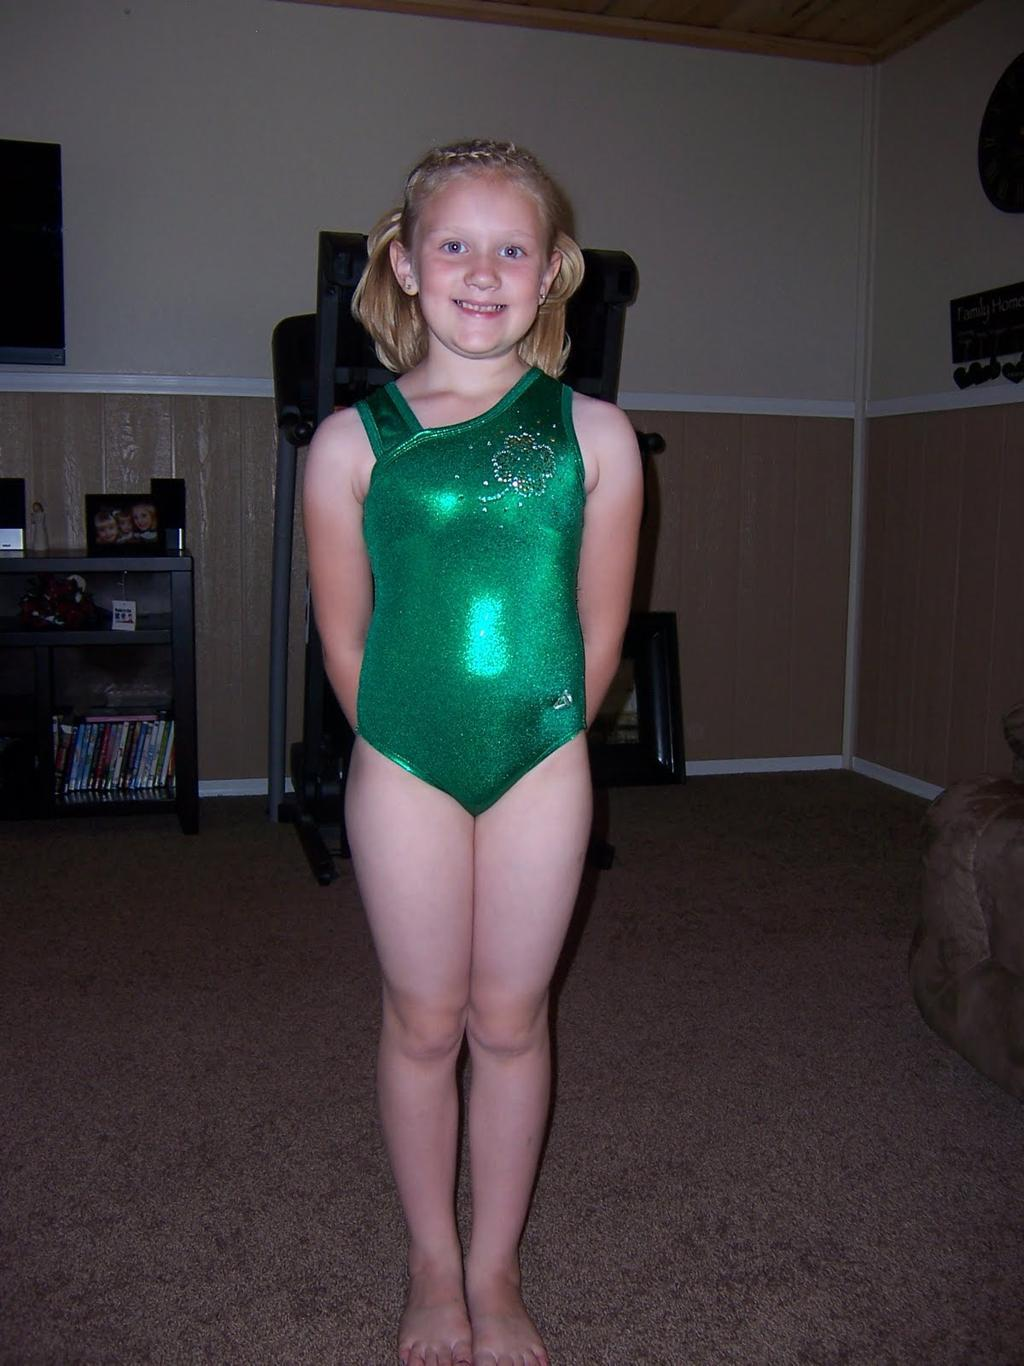face: (417, 169, 542, 358)
